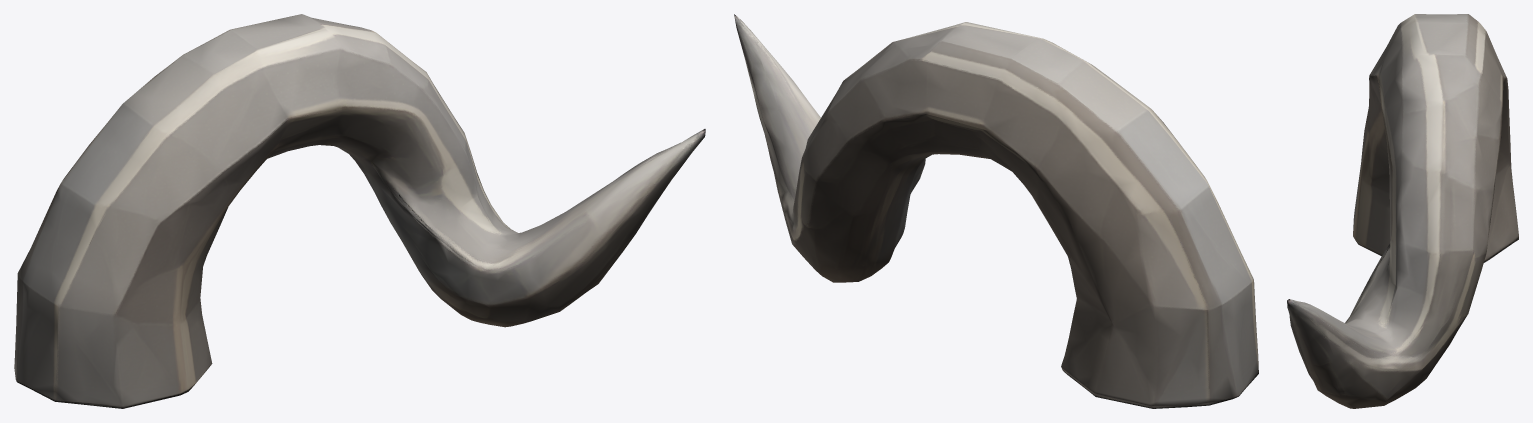
Rendered from horn.glb.
The picture shows the model from 3 angles, left to right: view 1: azimuth 30°, elevation 25°; view 2: azimuth 150°, elevation 25°; view 3: azimuth 270°, elevation 25°; orthographic projection. The views are drawn at different scales.
Visible parts, largest first — view 1: world; view 2: world; view 3: world.
Part boxes in pixels (x1=…): world: x1=14, y1=14, x2=705, y2=408; world: x1=734, y1=14, x2=1258, y2=408; world: x1=1287, y1=14, x2=1518, y2=408.
Bounding box in the file's own units: 0.9862 × 0.4892 × 0.3626.
1 material, 1 textured.
